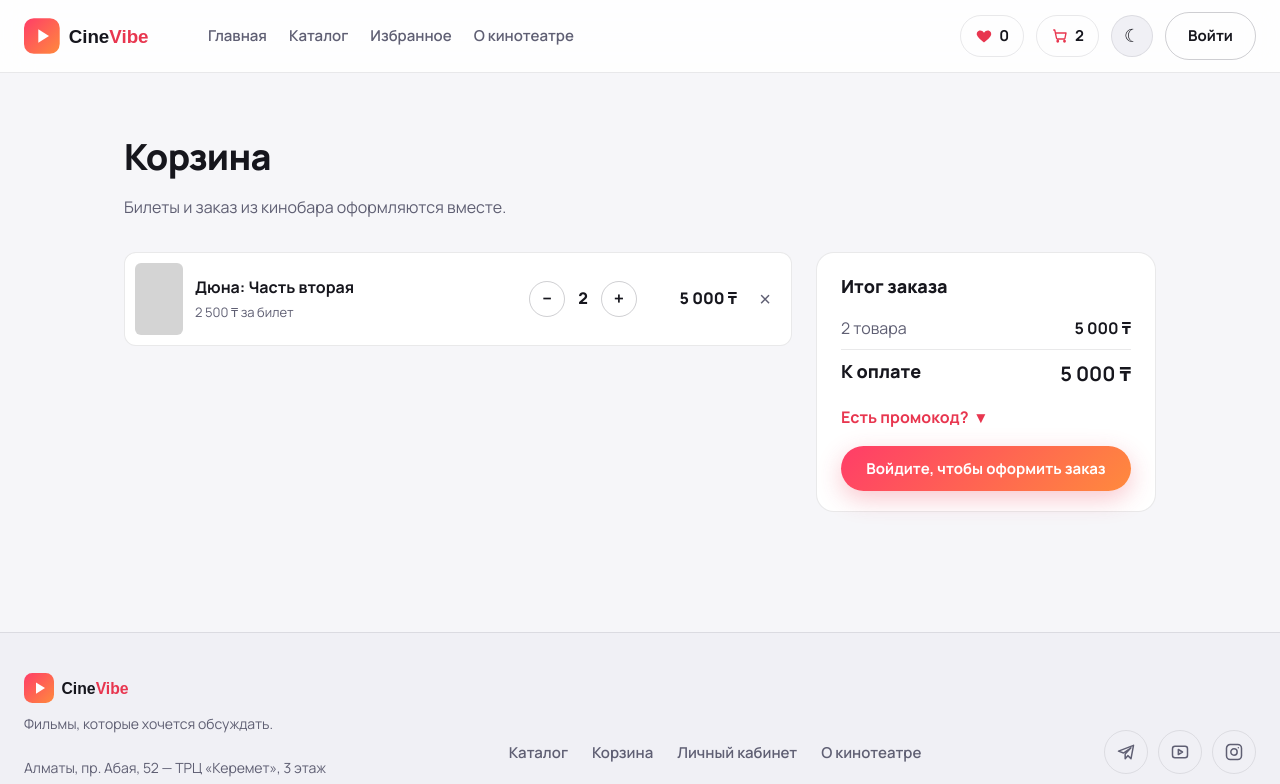
Test case: Корзина /cart › изменение количества пересчитывает сумму
Click the button named "Больше: Дюна: Часть вторая".
click(619, 299)  # box [601, 281, 637, 317]
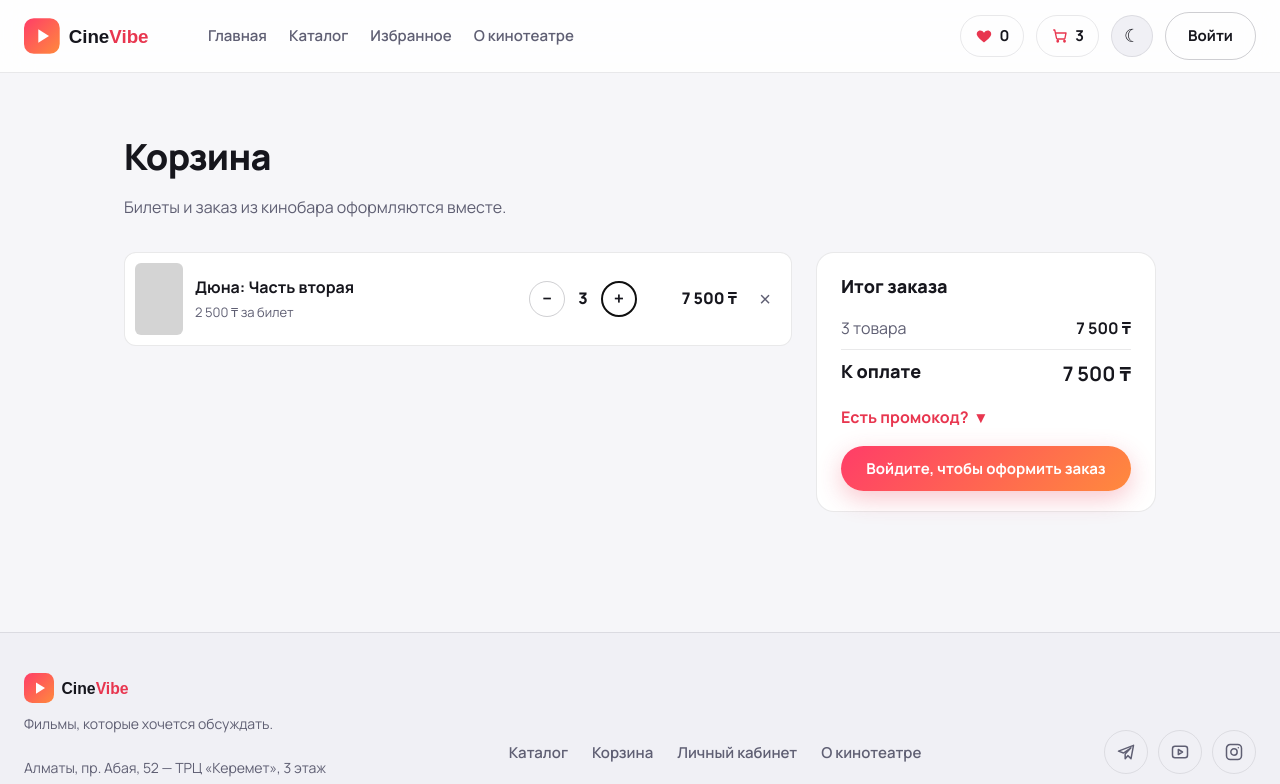
expect the element "Итог заказа" shows "7 500 ₸": met, box [1076, 318, 1131, 340]
